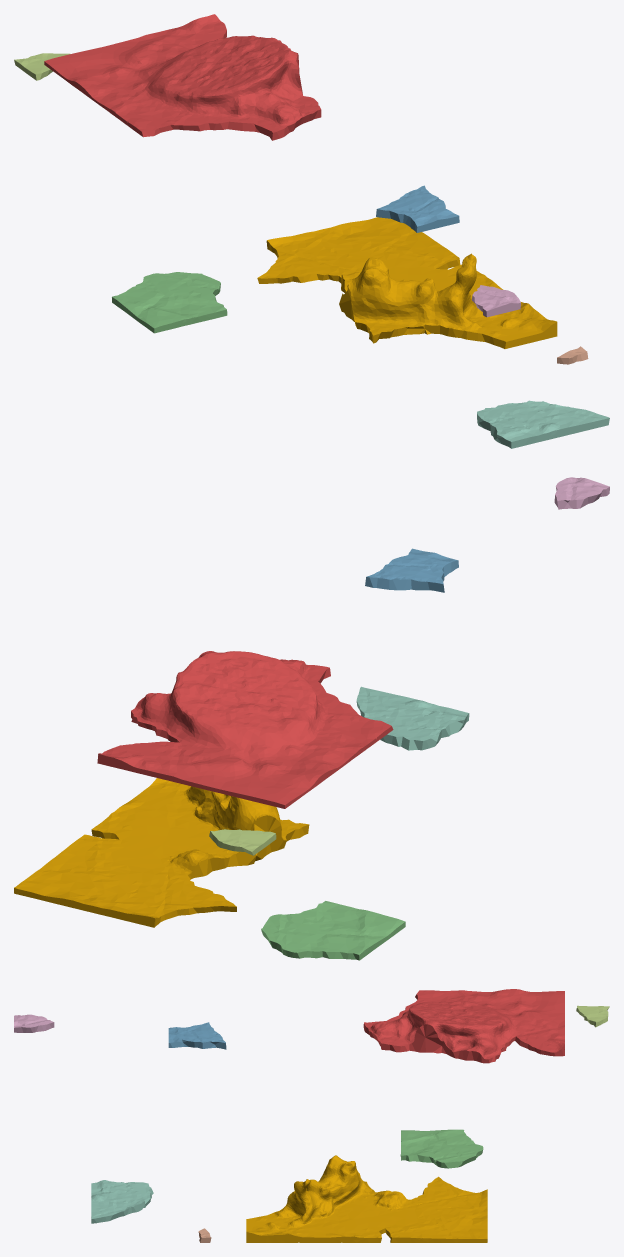
File: fractured_18_8pcs_transformed.glb
3 views of the same model, one above another, from view 1: azimuth 30°, elevation 25°; view 2: azimuth 150°, elevation 25°; view 3: azimuth 270°, elevation 25° (orthographic). The views are drawn at different scales.
Parts seen in each view (by area): view 1: piece_1.obj, piece_0.obj, piece_3.obj, piece_4.obj, piece_2.obj, piece_6.obj, piece_5.obj; view 2: piece_1.obj, piece_0.obj, piece_3.obj, piece_4.obj, piece_2.obj, piece_6.obj, piece_5.obj; view 3: piece_0.obj, piece_1.obj, piece_3.obj, piece_4.obj, piece_2.obj, piece_6.obj, piece_5.obj.
Boxes of the visible parts, x1,y1,x2,y2 form: piece_1.obj: (44, 14, 321, 140); piece_0.obj: (257, 217, 557, 348); piece_3.obj: (112, 272, 227, 333); piece_4.obj: (477, 400, 609, 448); piece_2.obj: (376, 185, 459, 232); piece_6.obj: (472, 285, 520, 317); piece_5.obj: (14, 53, 70, 80); piece_1.obj: (97, 651, 393, 808); piece_0.obj: (14, 778, 309, 927); piece_3.obj: (261, 901, 405, 960); piece_4.obj: (356, 686, 469, 750); piece_2.obj: (365, 548, 458, 592); piece_6.obj: (554, 477, 609, 509); piece_5.obj: (209, 829, 276, 855); piece_0.obj: (246, 1155, 487, 1242); piece_1.obj: (363, 989, 564, 1063); piece_3.obj: (400, 1129, 483, 1168); piece_4.obj: (91, 1180, 153, 1223); piece_2.obj: (168, 1022, 226, 1049); piece_6.obj: (14, 1014, 54, 1032); piece_5.obj: (576, 1005, 609, 1027).
Bounding box in the file's own units: 1 × 0.7262 × 2.31.
